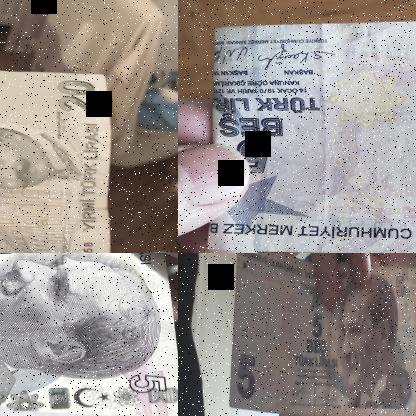5 TL: (0, 63, 112, 252)
